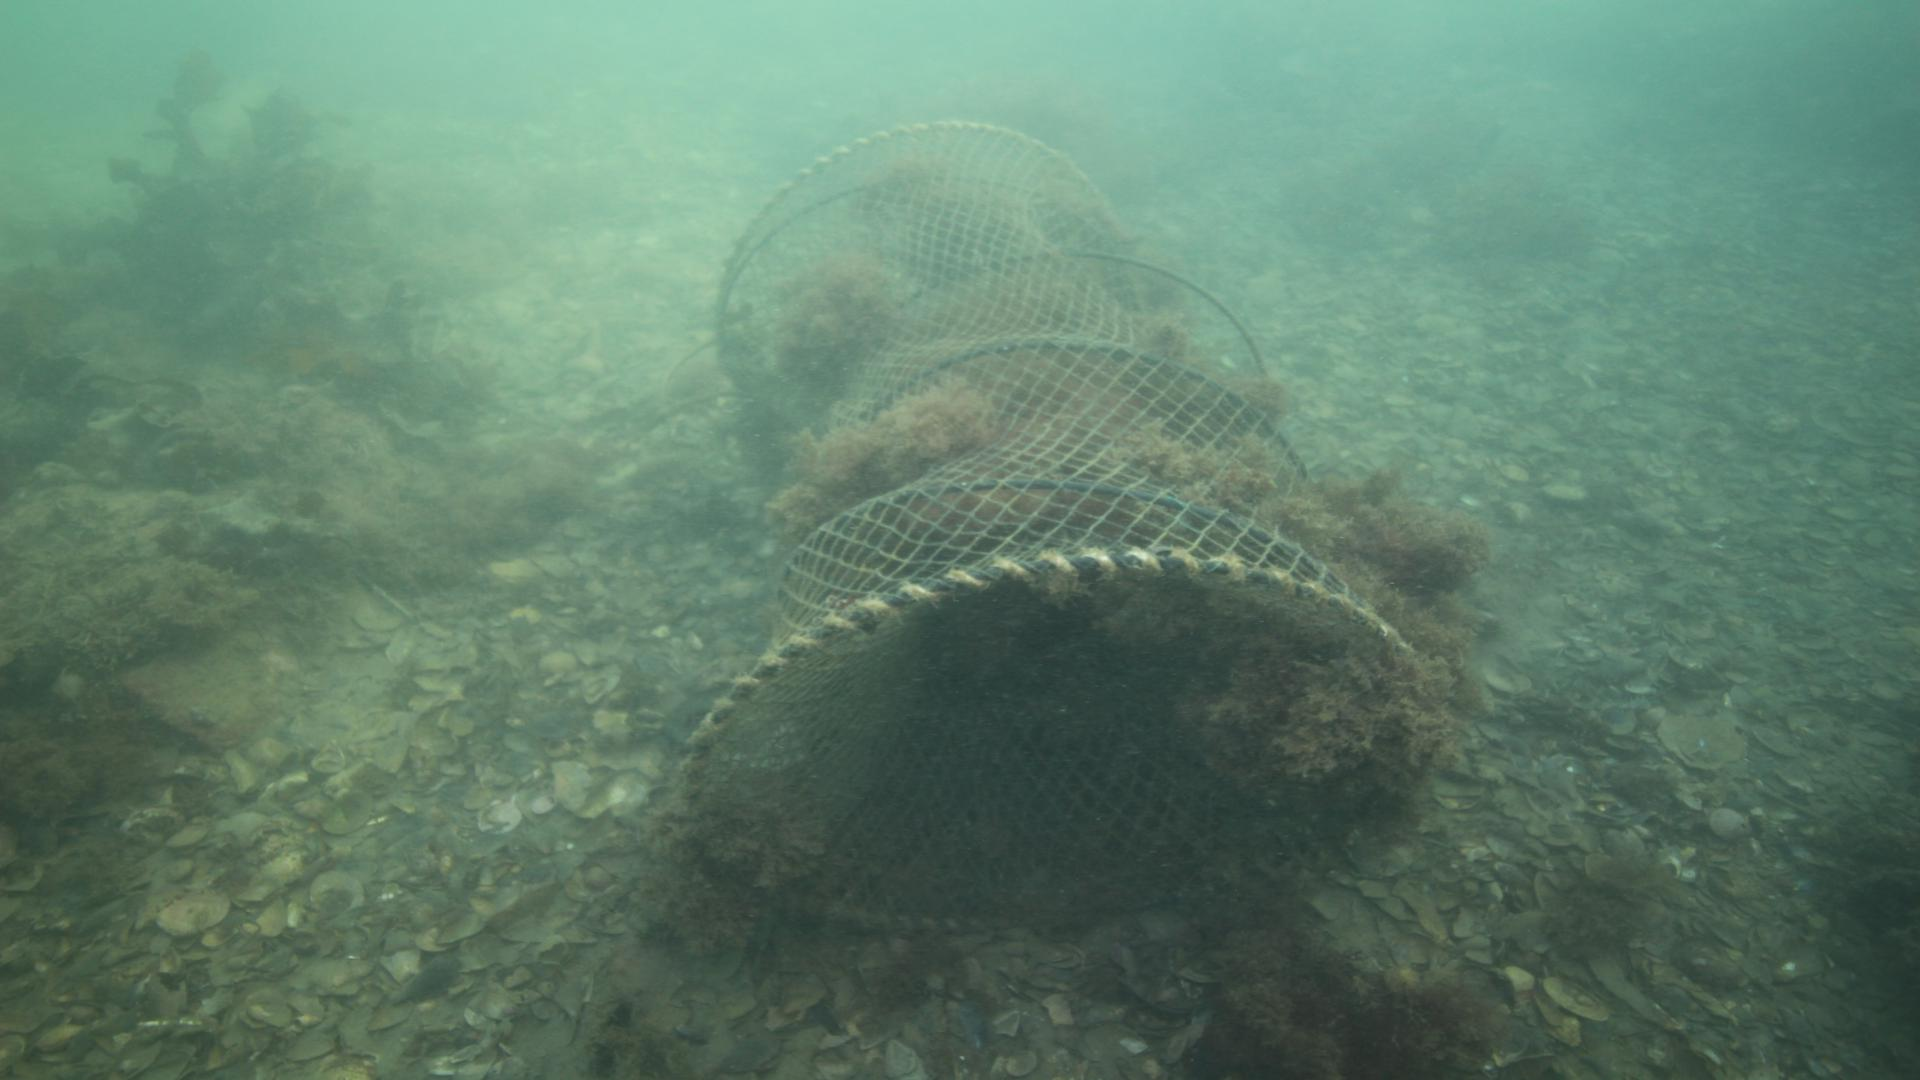spring fish trap: (665, 117, 1435, 934)
